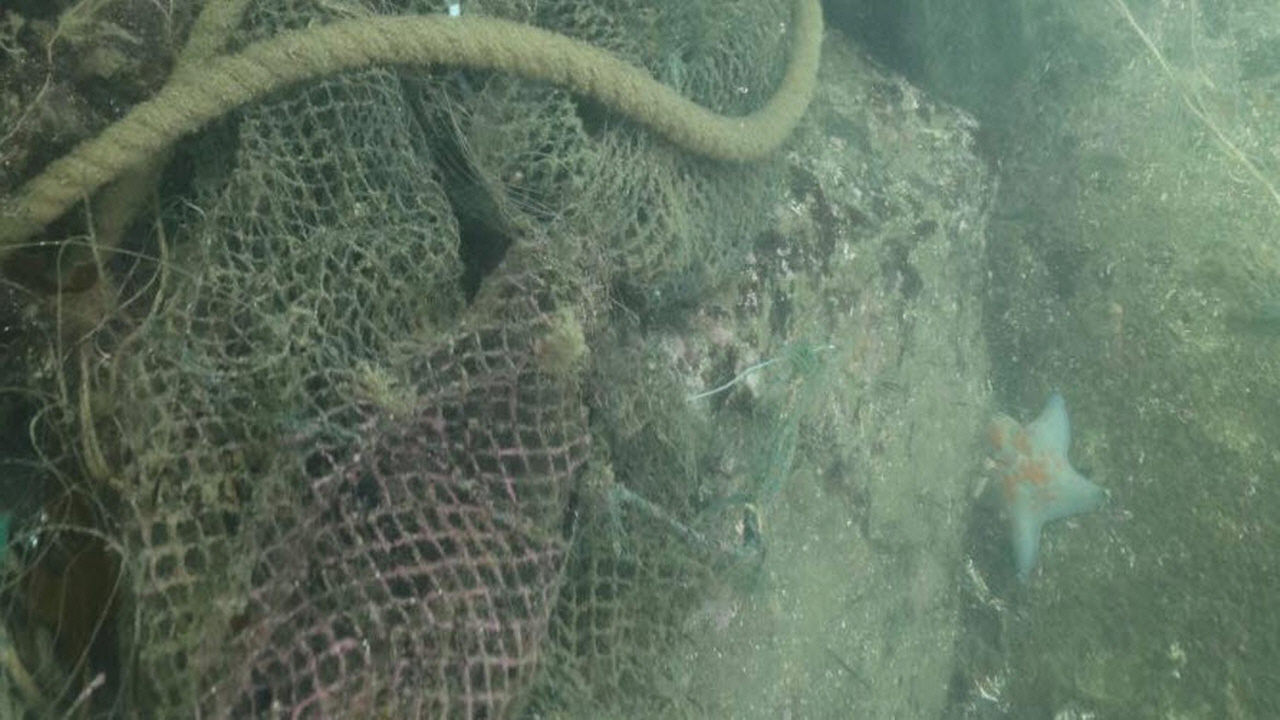bundle of ropes: (0, 0, 826, 247)
fish net: (115, 0, 795, 720)
